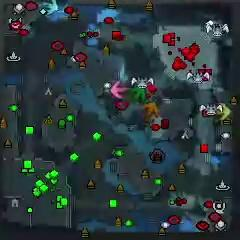x1: (111, 81, 128, 98)
x2: (214, 103, 232, 121)
x3: (42, 0, 58, 15)
x4: (130, 86, 145, 104)
x5: (142, 102, 159, 116)
